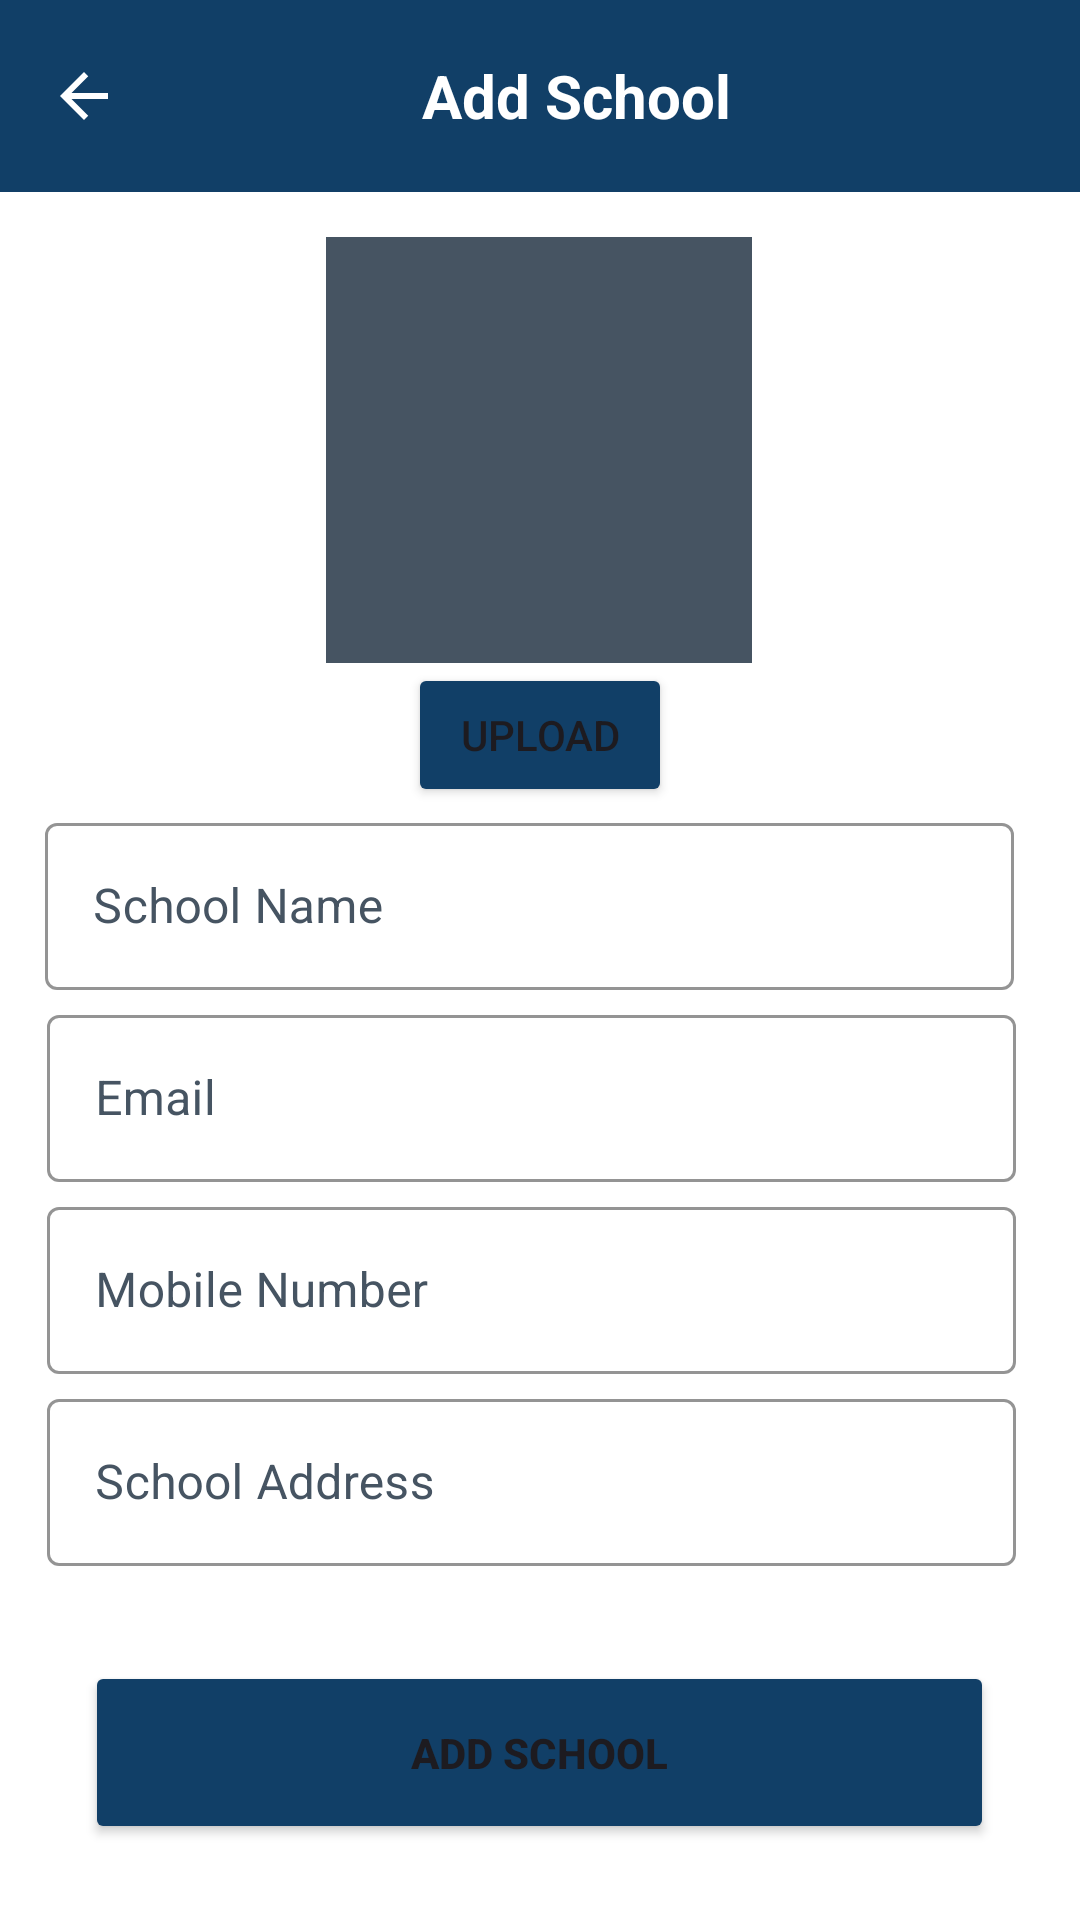

Where to tap for icons on this 1080px x 1920px app screen, as point (x, y):
arrow back: point (84, 96)
